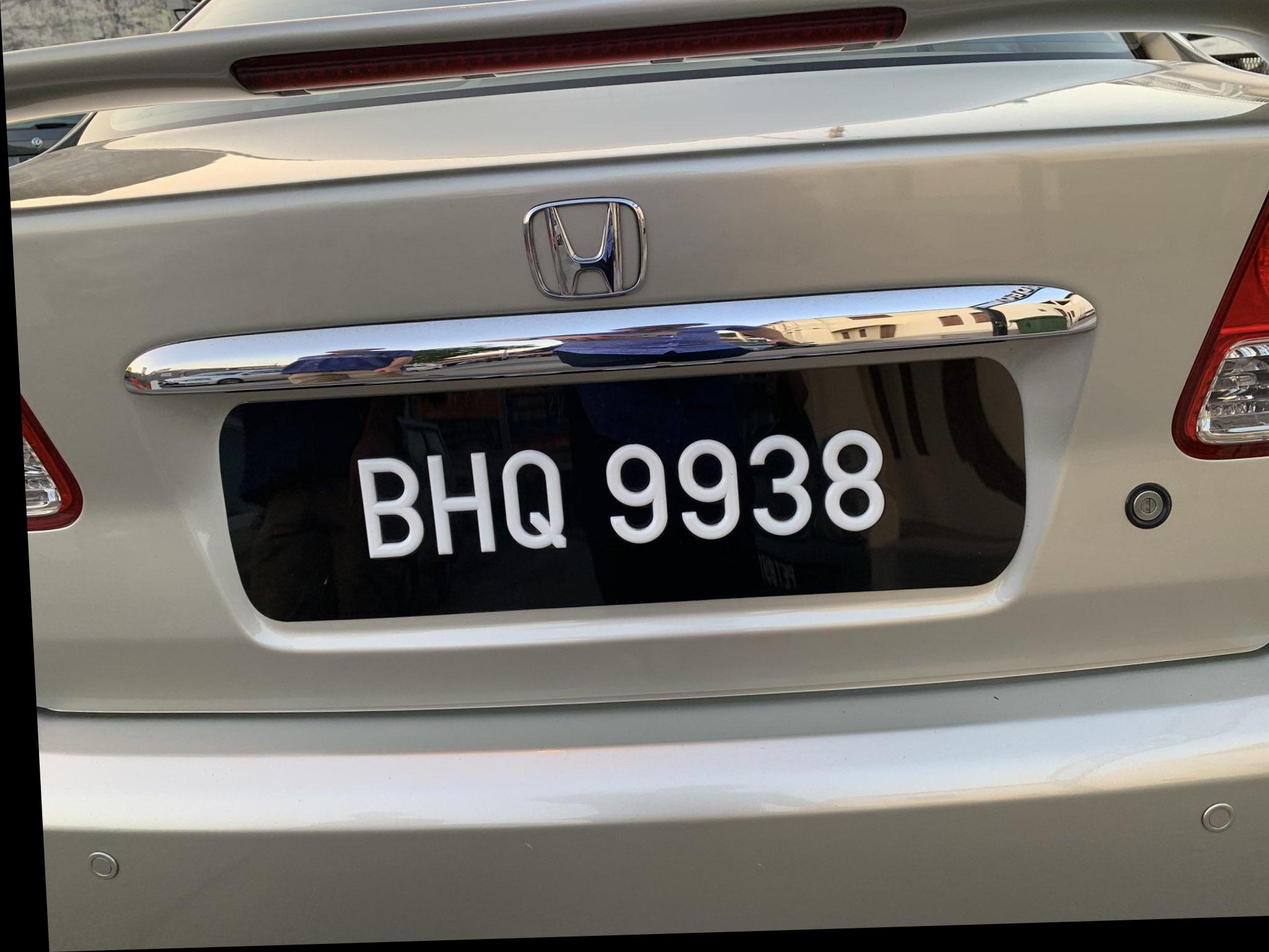License_Plate: (169, 345, 1055, 643)
